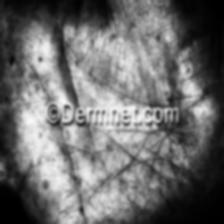Unclassified: (87, 148, 101, 164), (9, 52, 18, 68), (40, 178, 50, 186)
